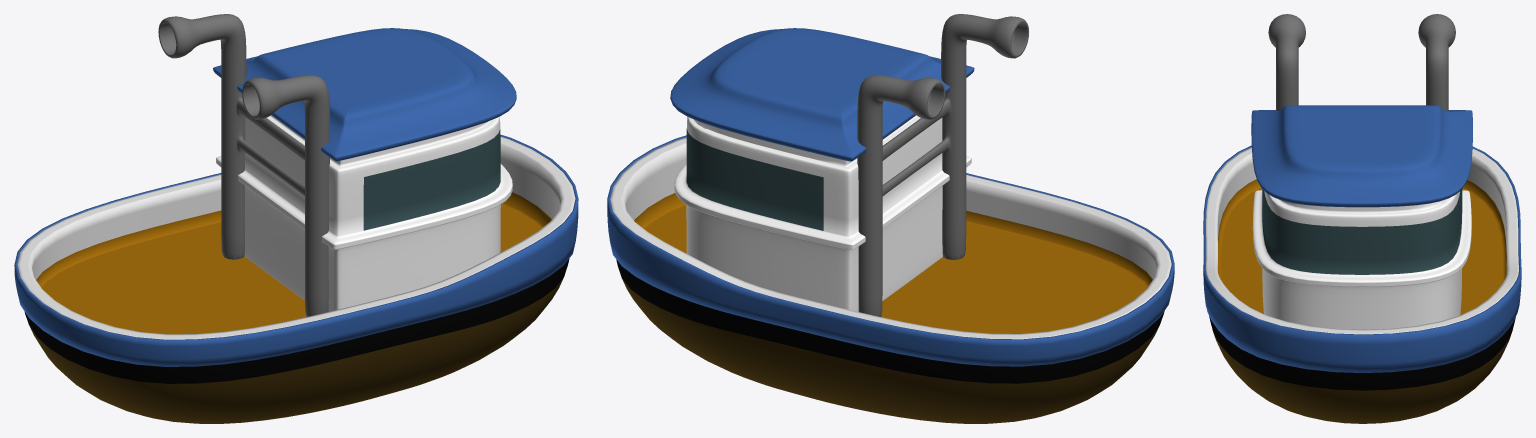
File: LVL 3 BOAT.fbx
3 views of the same model, side by side, from view 1: azimuth 30°, elevation 25°; view 2: azimuth 150°, elevation 25°; view 3: azimuth 270°, elevation 25° (orthographic). The views are drawn at different scales.
Parts seen in each view (by area): view 1: Lvl 3 boat, Color 3 - Boat accent, Control room, Exhaust; view 2: Lvl 3 boat, Color 3 - Boat accent, Control room, Exhaust; view 3: Color 3 - Boat accent, Lvl 3 boat, Control room, Exhaust.
Boxes of the visible parts, x1,y1,x2,y2 form: Lvl 3 boat: (17,136,575,423); Color 3 - Boat accent: (14,28,578,366); Control room: (216,115,512,311); Exhaust: (158,14,329,316); Lvl 3 boat: (610,137,1171,423); Color 3 - Boat accent: (607,28,1174,366); Control room: (674,115,971,311); Exhaust: (857,14,1028,316); Color 3 - Boat accent: (1203,105,1521,372); Lvl 3 boat: (1206,147,1518,423); Control room: (1252,189,1471,329); Exhaust: (1268,14,1455,110).
Size of the model in its own units: 414 by 271 by 248.
